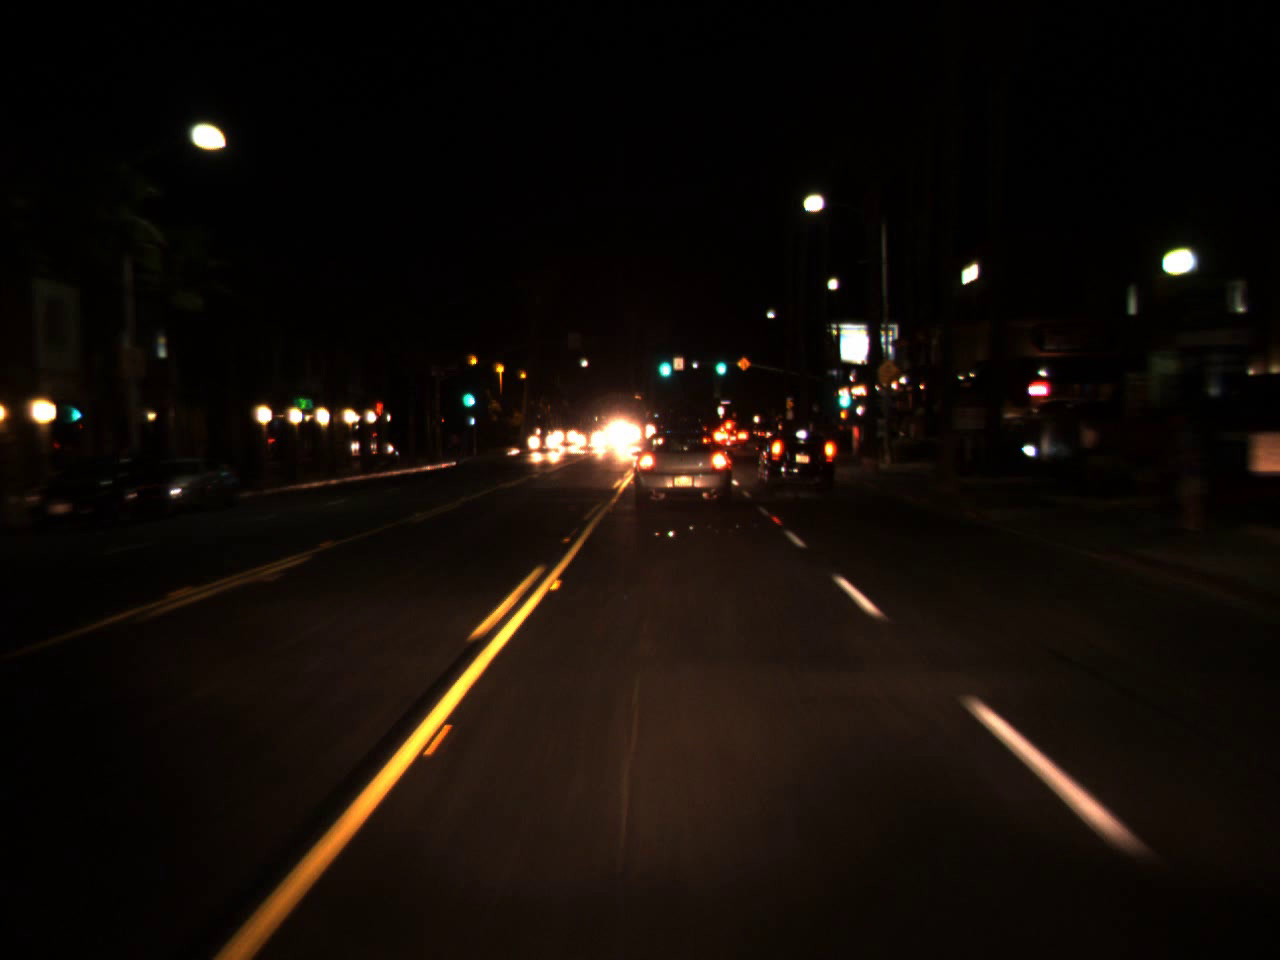go: (832, 375, 853, 414), (654, 343, 673, 382), (711, 348, 729, 378), (460, 376, 474, 412)
